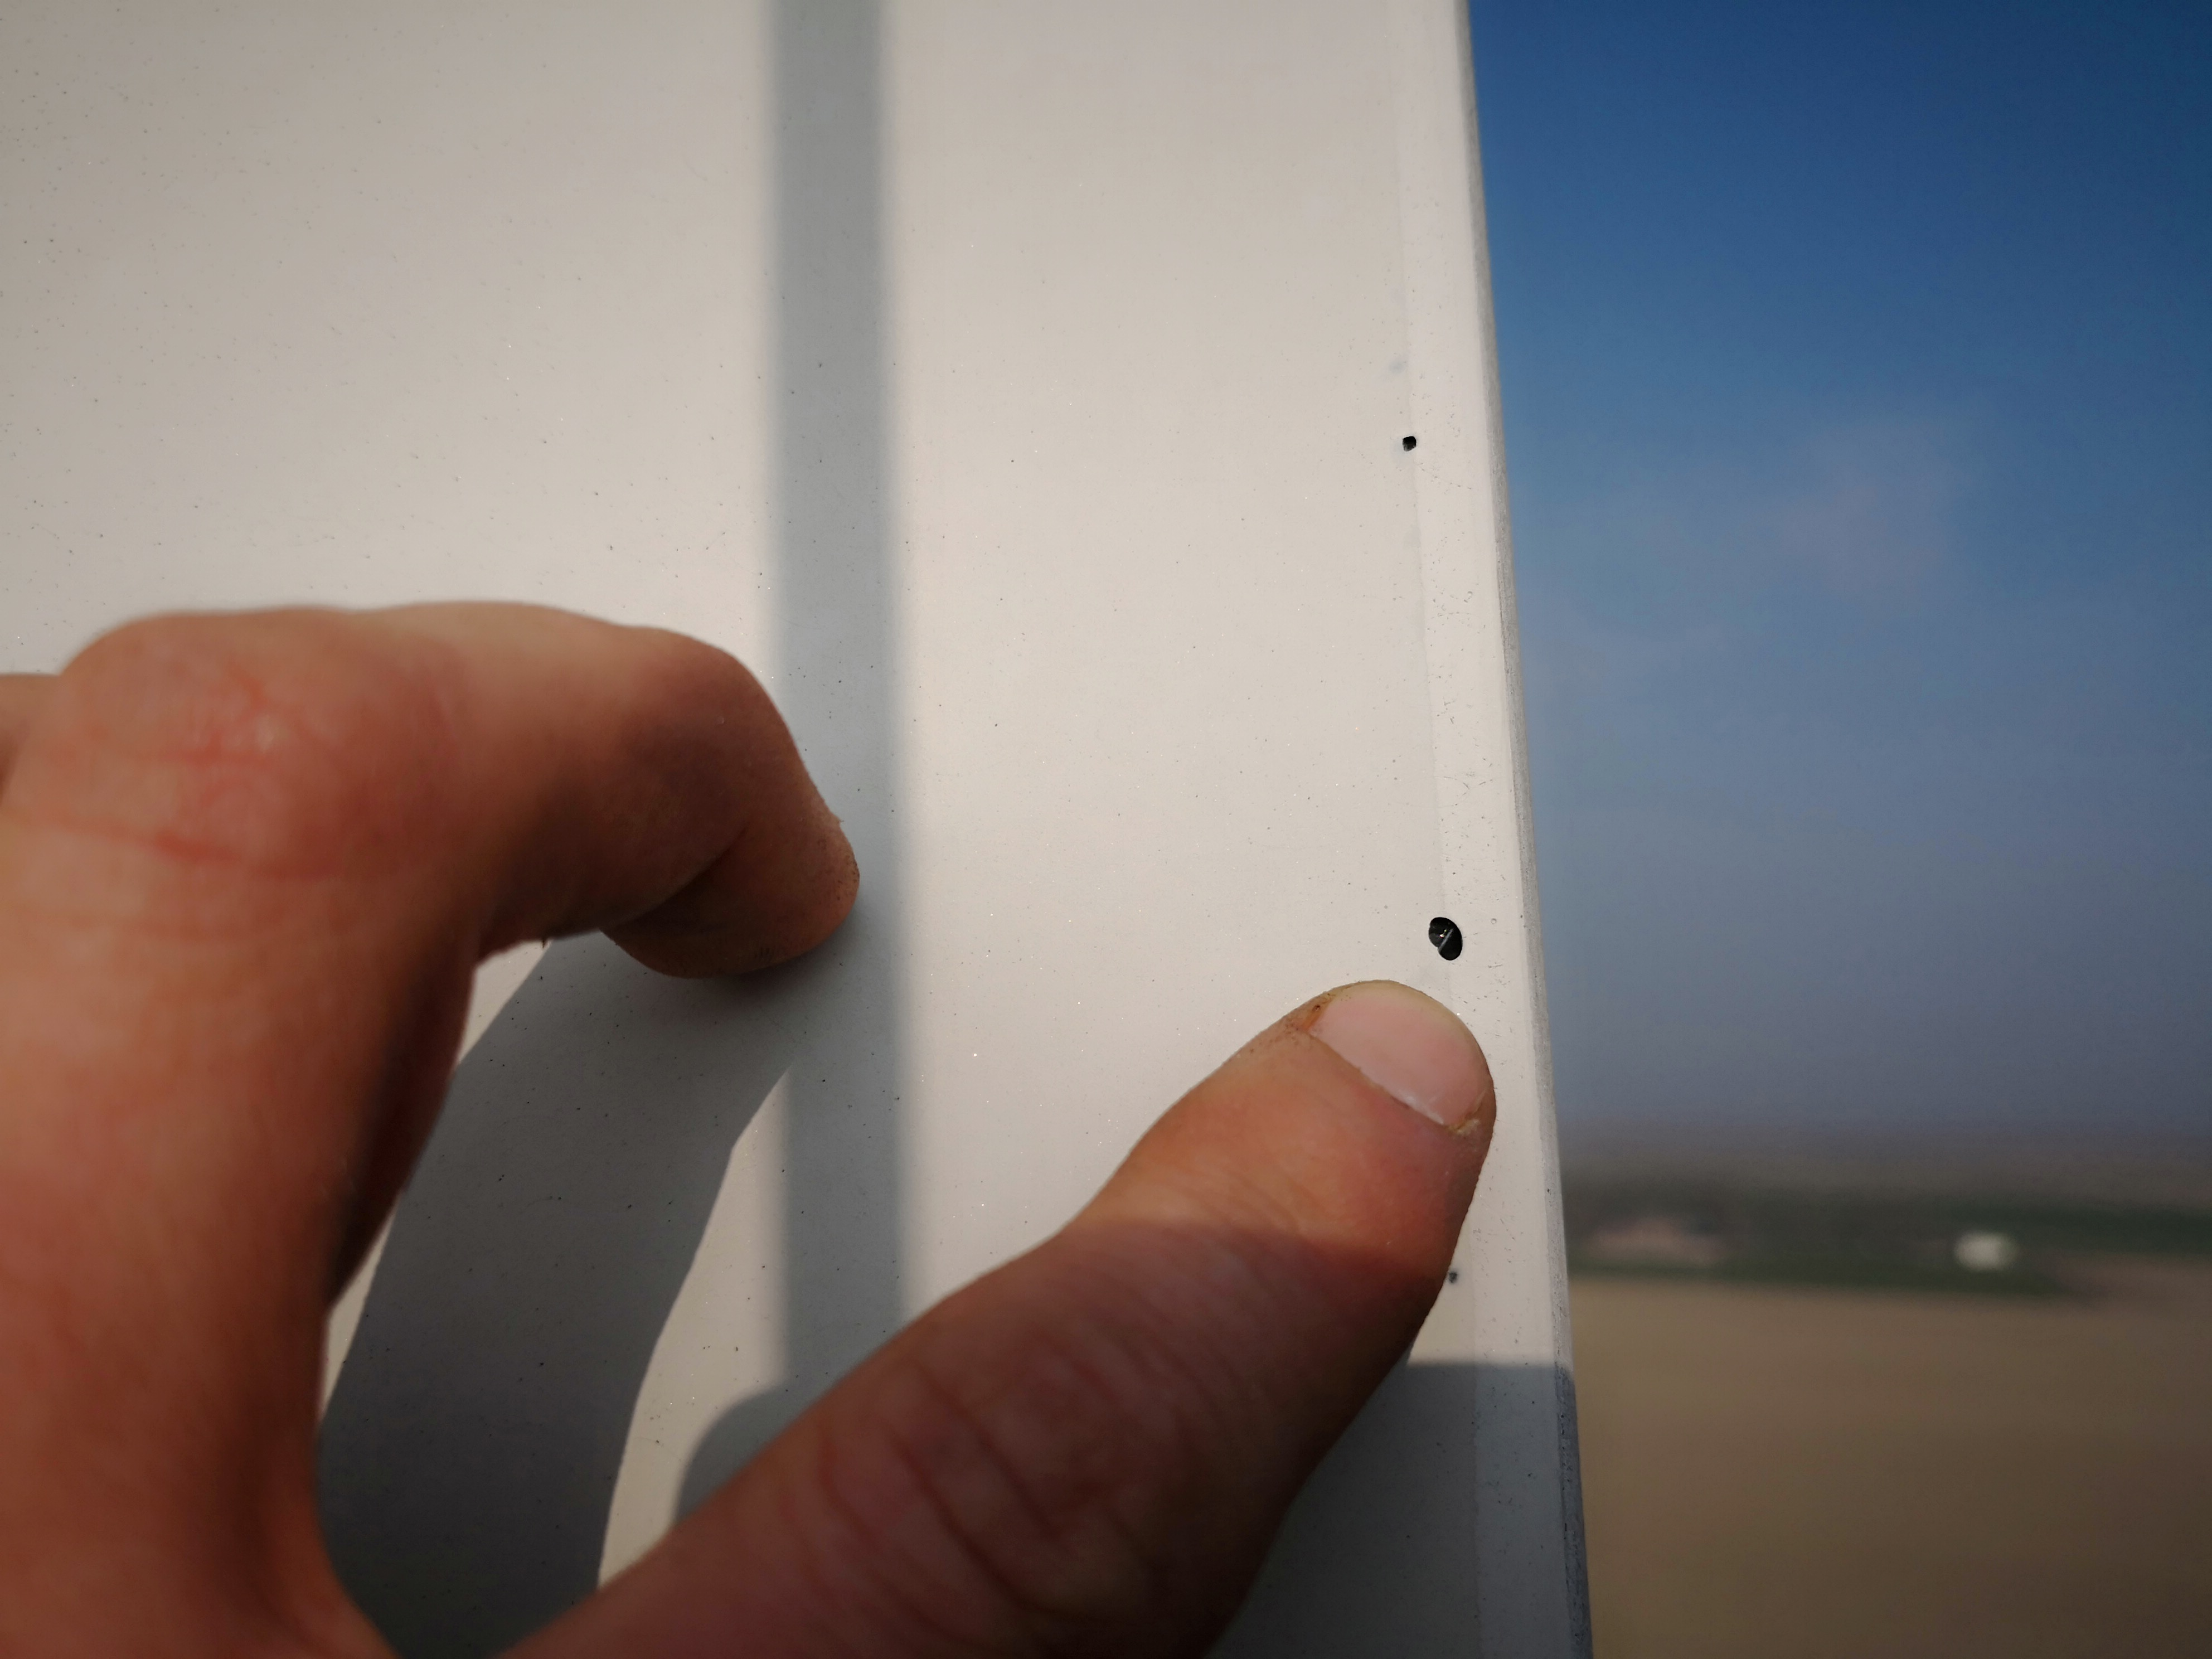SD: (1418, 899, 1470, 969), (1402, 425, 1430, 455)
